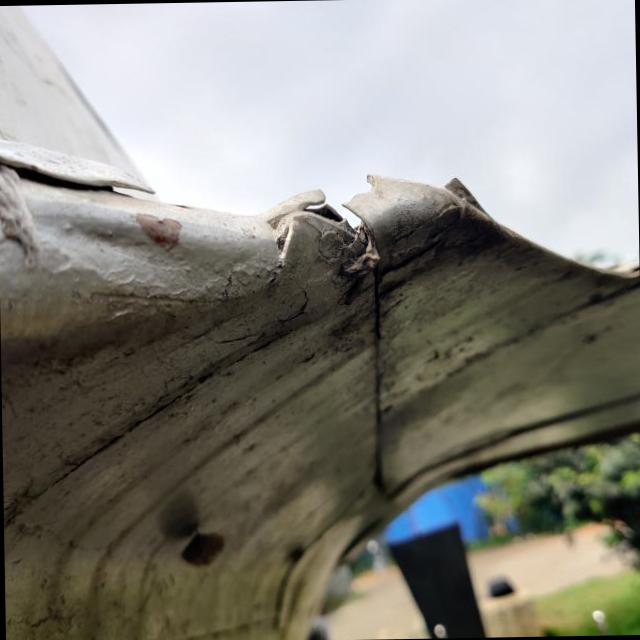Crack: (299, 191, 369, 253), (446, 178, 488, 214)
